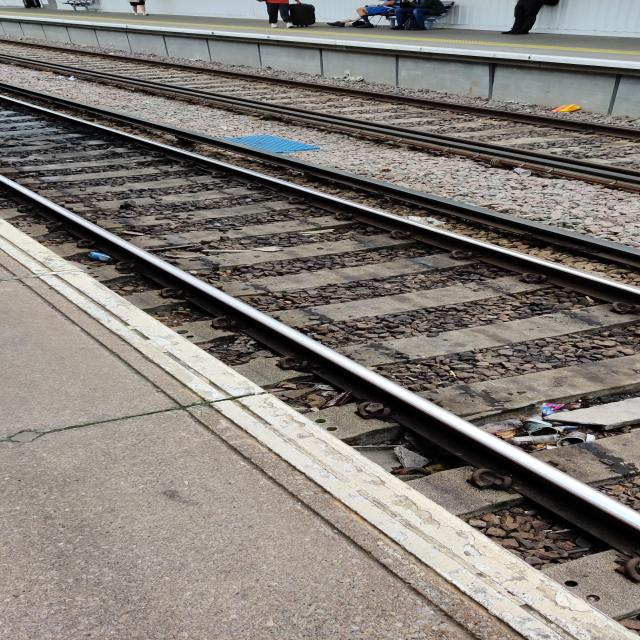litter: (472, 400, 598, 454), (86, 251, 123, 264), (549, 104, 584, 113), (512, 166, 534, 177)
